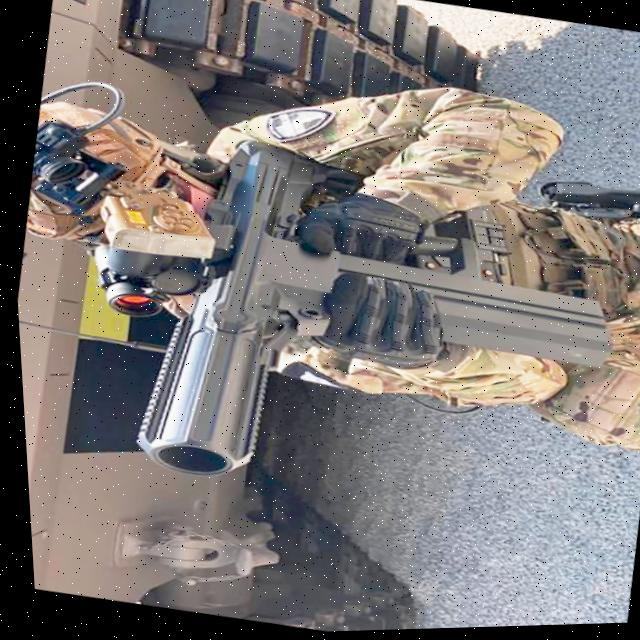firearm: (46, 108, 639, 548)
